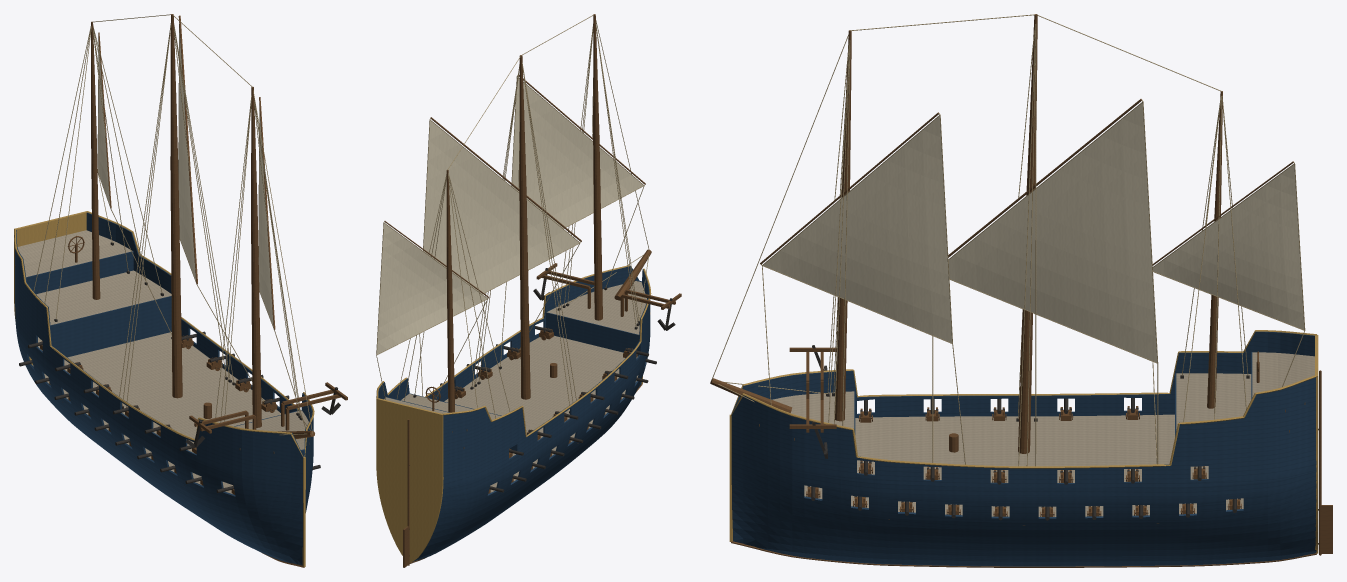
The model's file is ship.glb.
The picture shows the model from 3 angles, left to right: view 1: azimuth 30°, elevation 25°; view 2: azimuth 150°, elevation 25°; view 3: azimuth 270°, elevation 25°; orthographic projection. The views are drawn at different scales.
Visible parts, largest first — view 1: hull_shell_starboard, main_deck, castle_bulkhead_1_1, hull_shell_port, castle_deck_1, main, castle_deck_0, fore, castle_bulkhead_0_1, main_lateen_00, mizzen, stern_closure (+16 smaller); view 2: hull_shell_starboard, main_lateen_00, fore_lateen_00, stern_closure, main_deck, mizzen_lateen_00, hull_shell_port, main, castle_deck_2, fore, castle_bulkhead_2_minus_1, mizzen (+9 smaller); view 3: hull_shell_port, main_lateen_00, fore_lateen_00, main_deck, mizzen_lateen_00, hull_shell_starboard, castle_deck_1, main, fore, castle_deck_0, gunwale_port, mizzen (+5 smaller).
Part boxes in pixels (x1,y1,x2,y2): hull_shell_starboard: [15, 230, 303, 565]; main_deck: [38, 332, 280, 452]; castle_bulkhead_1_1: [50, 296, 171, 357]; hull_shell_port: [86, 212, 313, 512]; castle_deck_1: [36, 270, 171, 325]; main: [170, 14, 182, 398]; castle_deck_0: [17, 230, 132, 277]; fore: [251, 87, 261, 427]; castle_bulkhead_0_1: [26, 251, 133, 294]; main_lateen_00: [178, 32, 195, 280]; mizzen: [91, 21, 100, 299]; stern_closure: [14, 211, 86, 364]; hull_shell_starboard: [412, 269, 650, 561]; main_lateen_00: [423, 120, 579, 293]; fore_lateen_00: [512, 77, 643, 228]; stern_closure: [376, 398, 443, 562]; main_deck: [444, 335, 637, 456]; mizzen_lateen_00: [377, 223, 486, 354]; hull_shell_port: [378, 266, 639, 401]; main: [519, 55, 530, 399]; castle_deck_2: [547, 281, 647, 334]; fore: [593, 14, 602, 320]; castle_bulkhead_2_minus_1: [546, 312, 639, 355]; mizzen: [446, 169, 454, 412]; hull_shell_port: [731, 377, 1316, 566]; main_lateen_00: [948, 103, 1157, 362]; fore_lateen_00: [763, 116, 952, 342]; main_deck: [855, 414, 1208, 482]; mizzen_lateen_00: [1153, 164, 1304, 329]; hull_shell_starboard: [731, 331, 1314, 417]; castle_deck_1: [1176, 373, 1251, 430]; main: [1018, 14, 1037, 453]; fore: [835, 30, 851, 421]; castle_deck_0: [1252, 352, 1314, 397]; gunwale_port: [731, 375, 1317, 468]; mizzen: [1207, 91, 1222, 408].
Size of the model in its own units: 11.58 by 34.22 by 34.88.
Materials: 7 (7 with a texture image).
